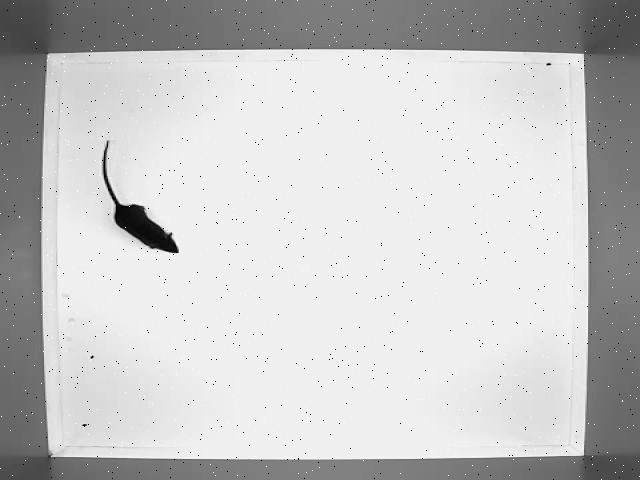Tikus: (95, 138, 189, 256)
